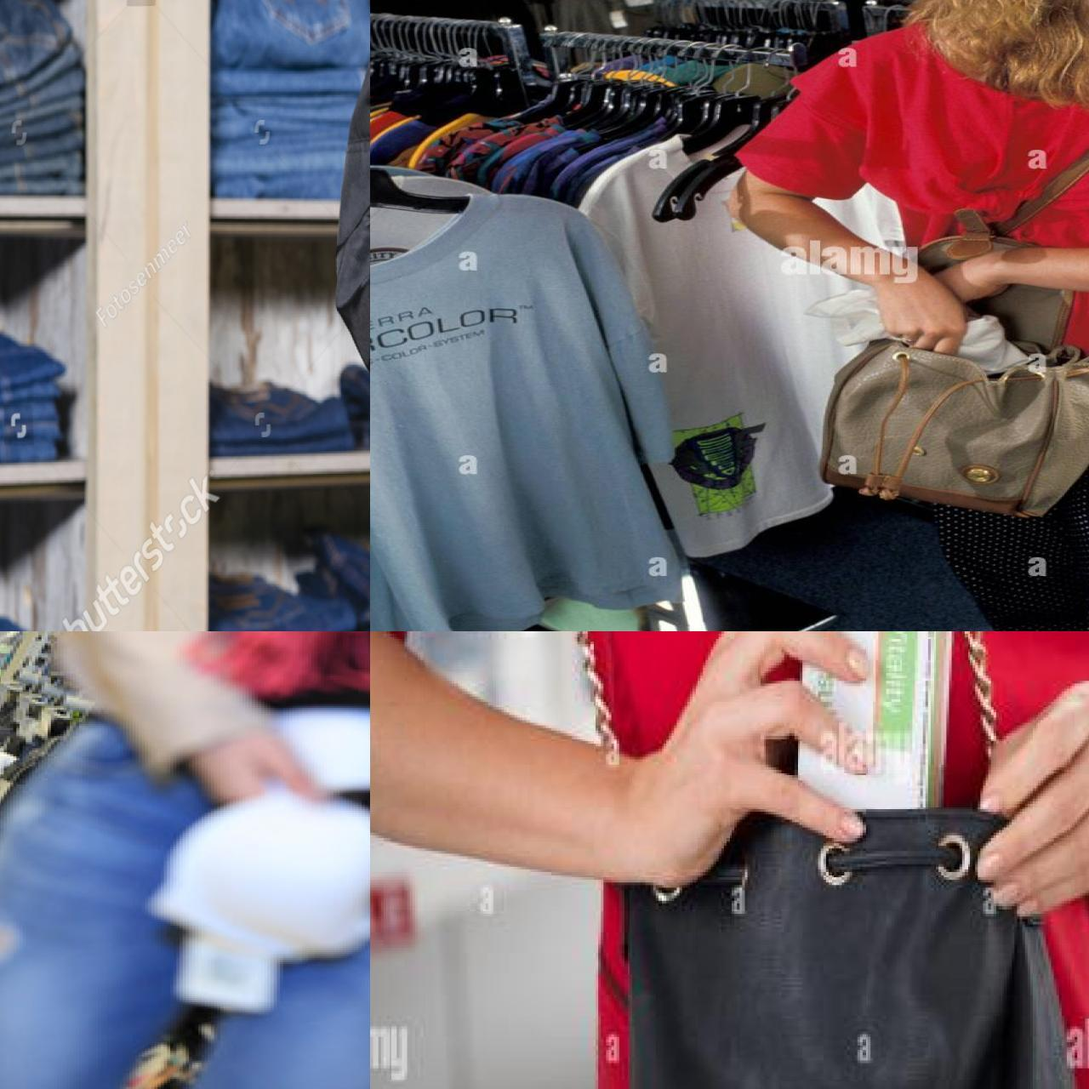shoplifting: (389, 18, 1089, 625), (380, 634, 1089, 1089)
